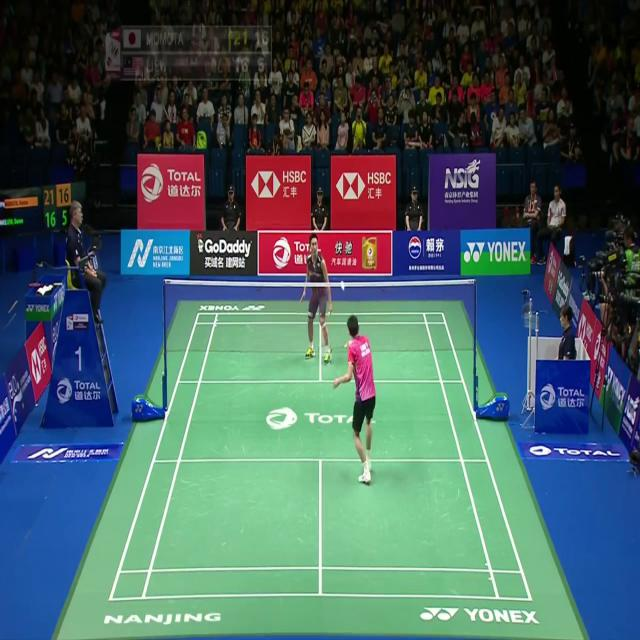Shuttlecock: (340, 277, 346, 288)
